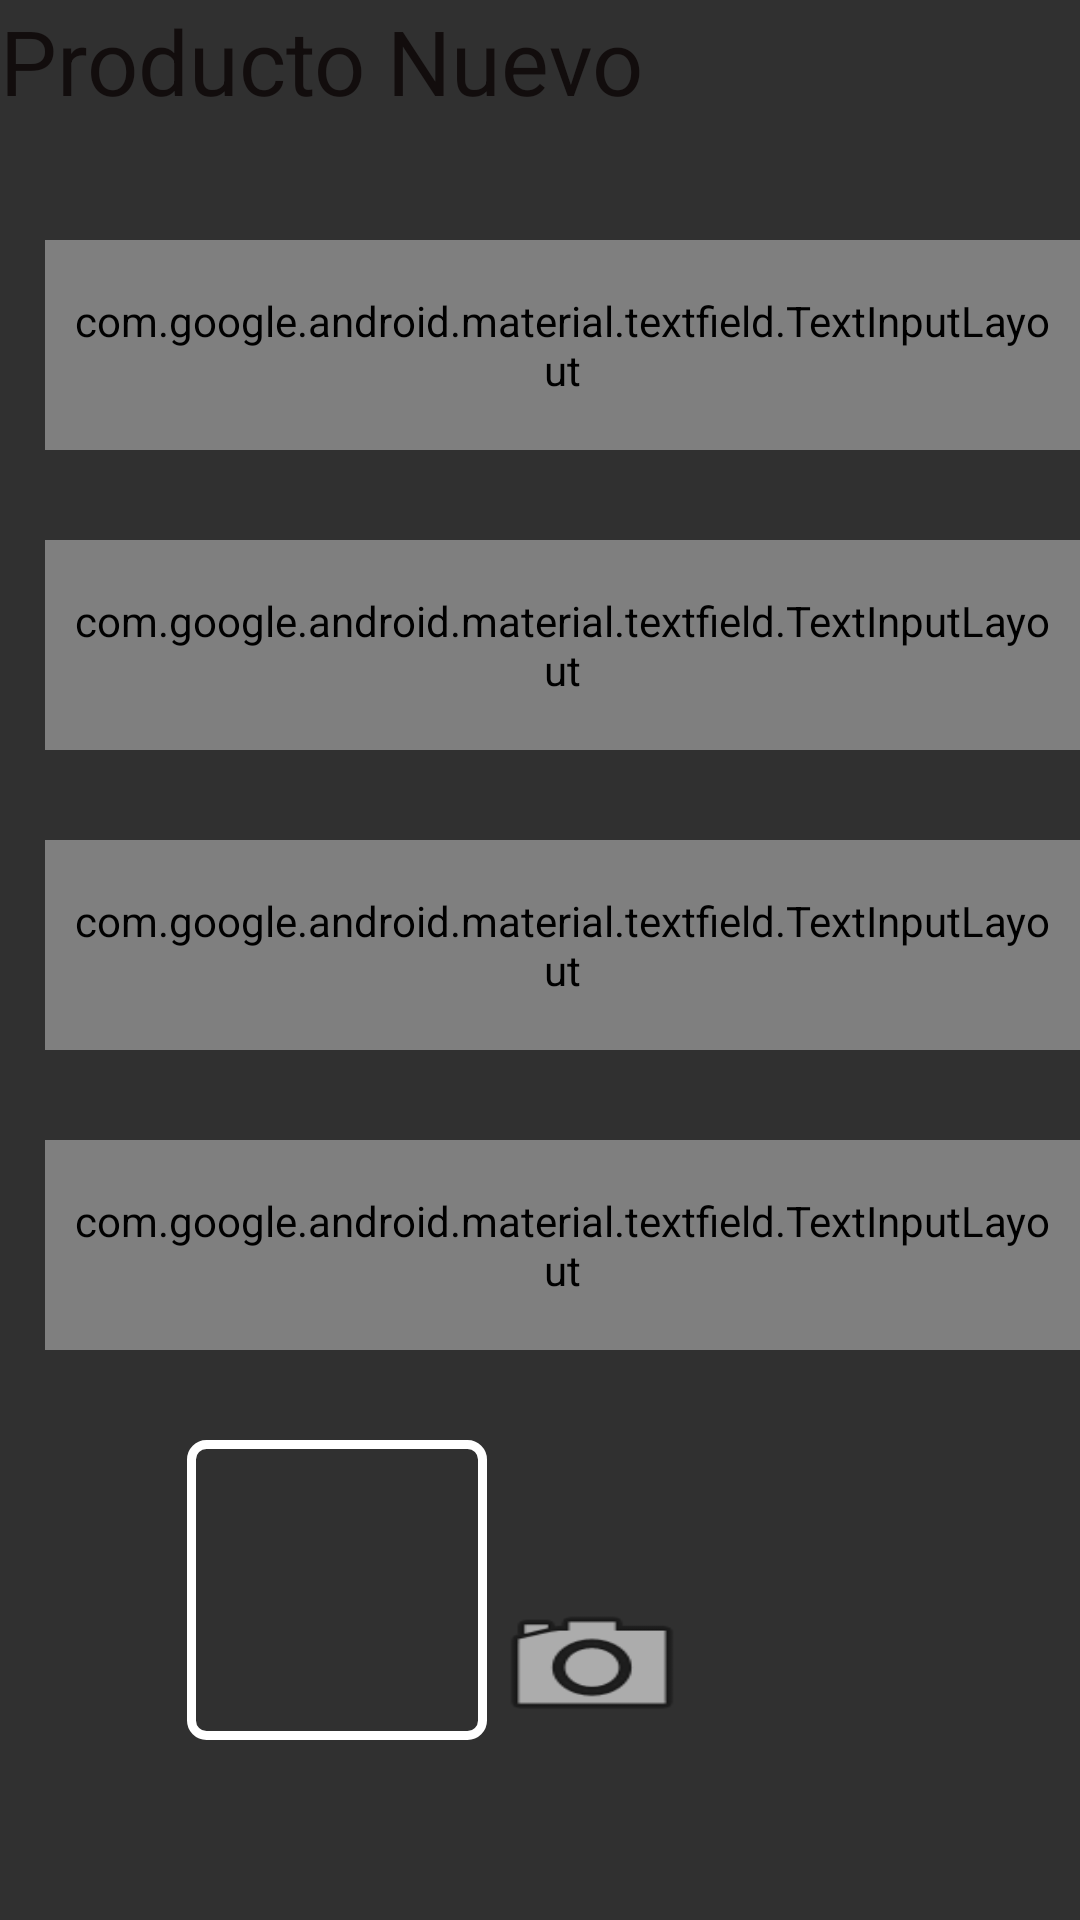

Icon click points for this 1080×1920 phone screenshot, format (x=x, y=y):
camera: (x=592, y=1662)
